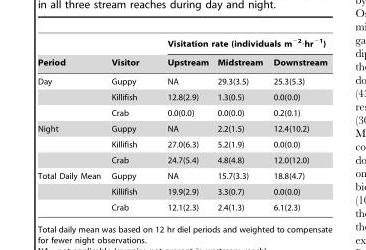table: (37, 37, 326, 211)
table column: (37, 37, 105, 211), (152, 37, 212, 211), (267, 37, 326, 211), (212, 37, 267, 211), (105, 37, 152, 211)
table column header: (37, 37, 326, 71)
table row: (37, 52, 326, 71), (37, 71, 326, 89), (37, 104, 326, 120), (37, 120, 326, 136), (37, 136, 326, 152), (37, 167, 326, 183), (37, 183, 326, 199), (37, 37, 326, 52), (37, 89, 326, 104), (37, 152, 326, 167), (37, 199, 326, 211)
table spanning cell: (37, 71, 105, 120), (37, 120, 105, 167), (37, 167, 105, 211), (152, 37, 326, 52), (37, 37, 105, 71), (105, 37, 152, 71)
